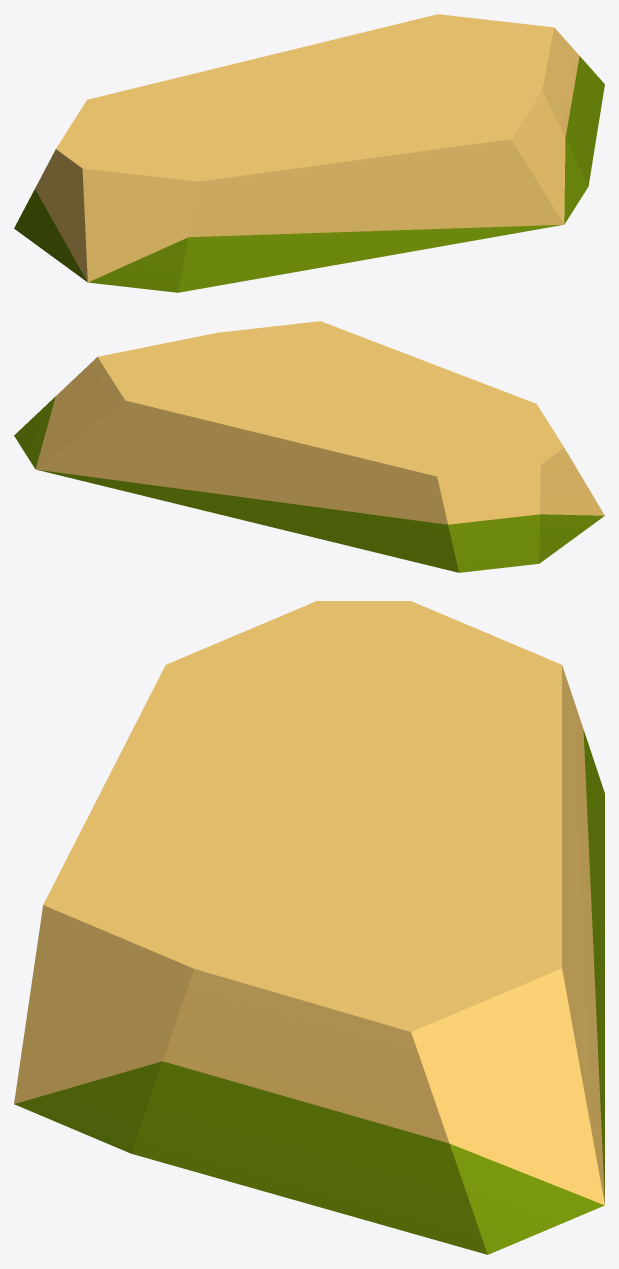
Rendered from Rock_10.fbx.
The picture shows the model from 3 angles, top to bottom: view 1: azimuth 30°, elevation 25°; view 2: azimuth 150°, elevation 25°; view 3: azimuth 270°, elevation 25°; orthographic projection. The views are drawn at different scales.
Parts seen in each view (by area): view 1: Rock_10; view 2: Rock_10; view 3: Rock_10.
Part boxes in pixels (x1,y1,x2,y2): Rock_10: (14, 14, 604, 292); Rock_10: (14, 321, 604, 572); Rock_10: (14, 601, 604, 1254).
Size of the model in its own units: 358 by 52.41 by 175.
